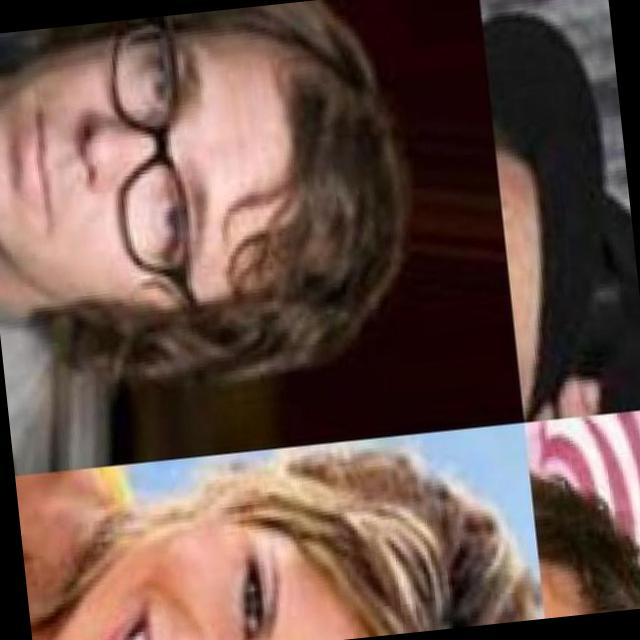bareface: (0, 20, 330, 340)
